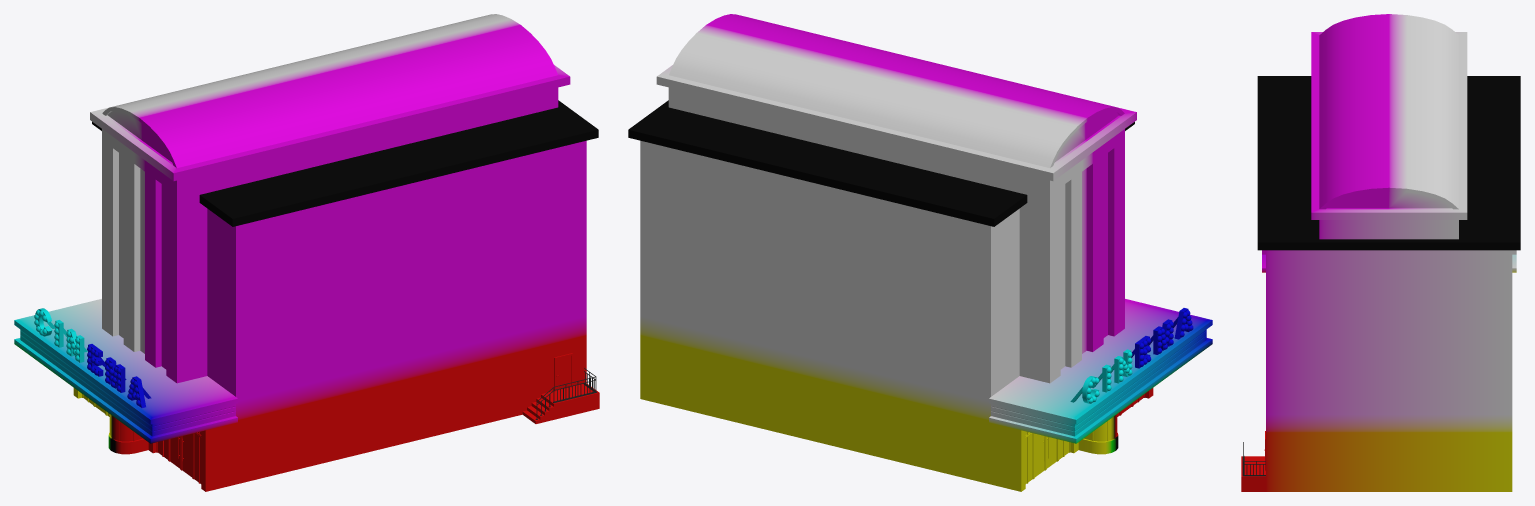
The model's file is Cinema.fbx.
3 renders of one model, left to right at view 1: azimuth 30°, elevation 25°; view 2: azimuth 150°, elevation 25°; view 3: azimuth 270°, elevation 25°, orthographic. The views are drawn at different scales.
Parts seen in each view (by area): view 1: Cinema; view 2: Cinema; view 3: Cinema.
Boxes of the visible parts, x1,y1,x2,y2 form: Cinema: [14, 14, 599, 491]; Cinema: [628, 14, 1212, 491]; Cinema: [1241, 14, 1520, 491].
Bounding box in the file's own units: 2928 × 2044 × 1700.
